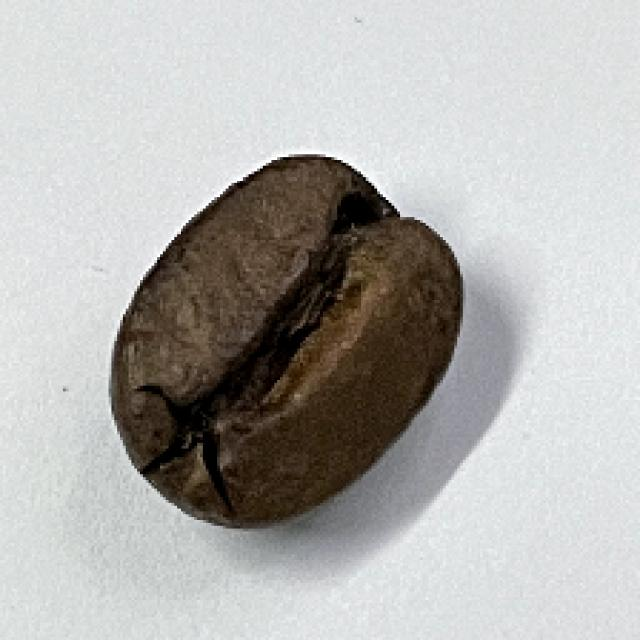bean: (100, 148, 466, 533)
